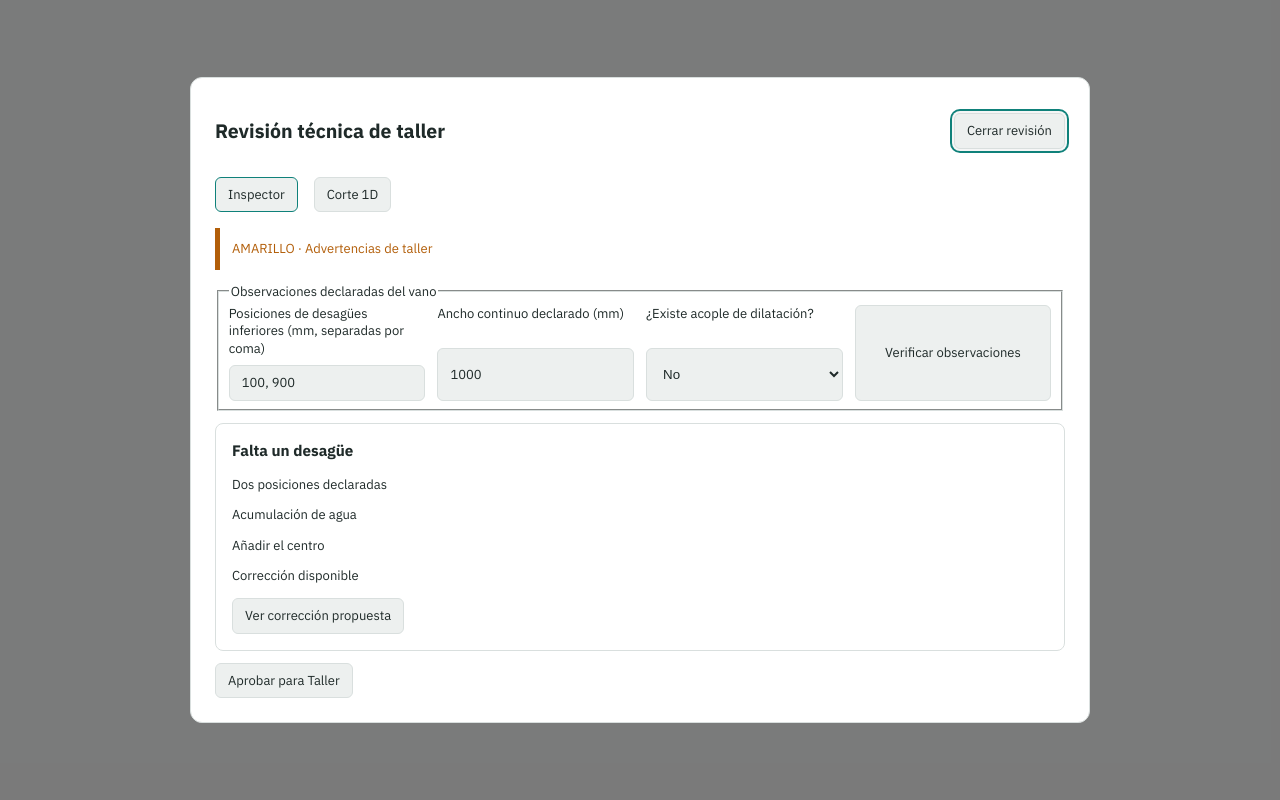
Test case: SHOT-07 transactional modal › rolls back every local field on calculate failure
Click the button "Ver corrección propuesta" at (318, 616), box [232,598,404,634]
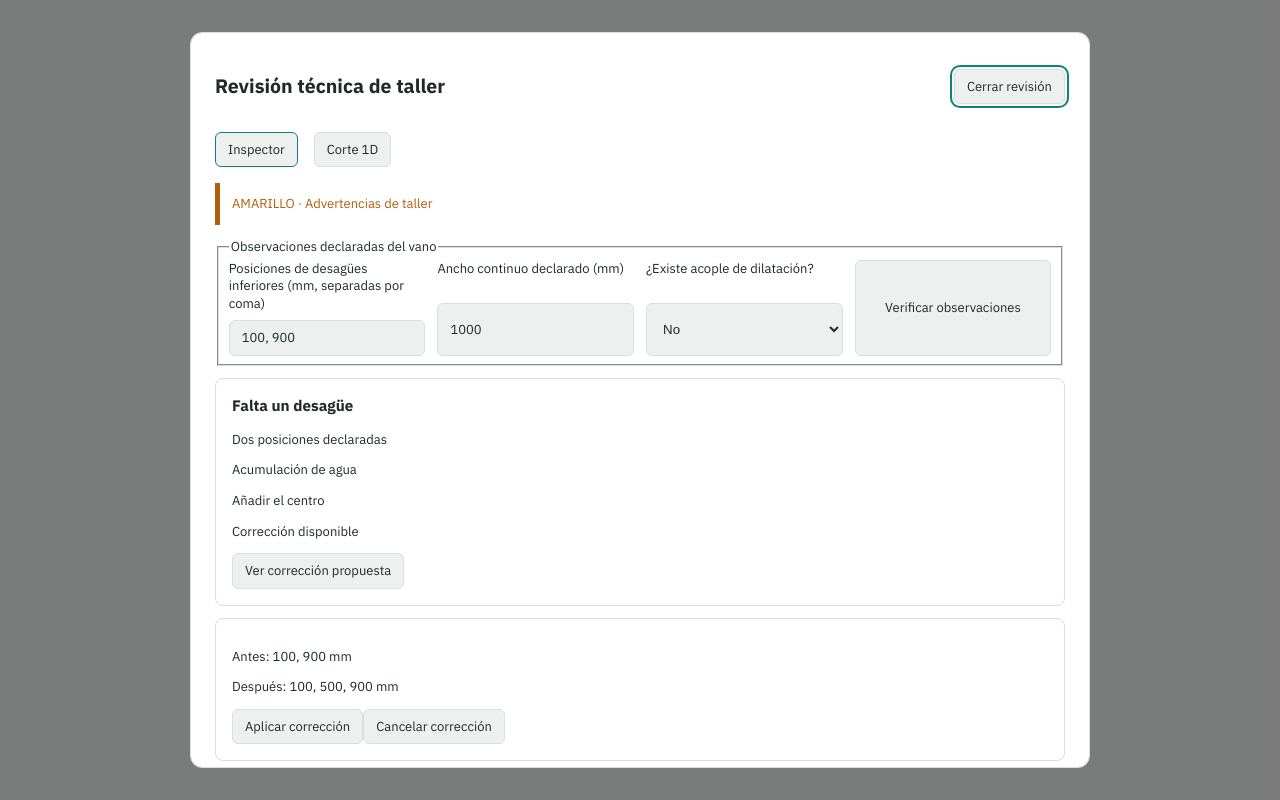
Expected: the text "Antes: 100, 900 mm" is shown, [232,648,352,665]
Expected: the text "Después: 100, 500, 900 mm" is shown, [232,678,399,695]
Click the button "Aplicar corrección" at (298, 726), box [232,709,363,744]
(page scrolled)
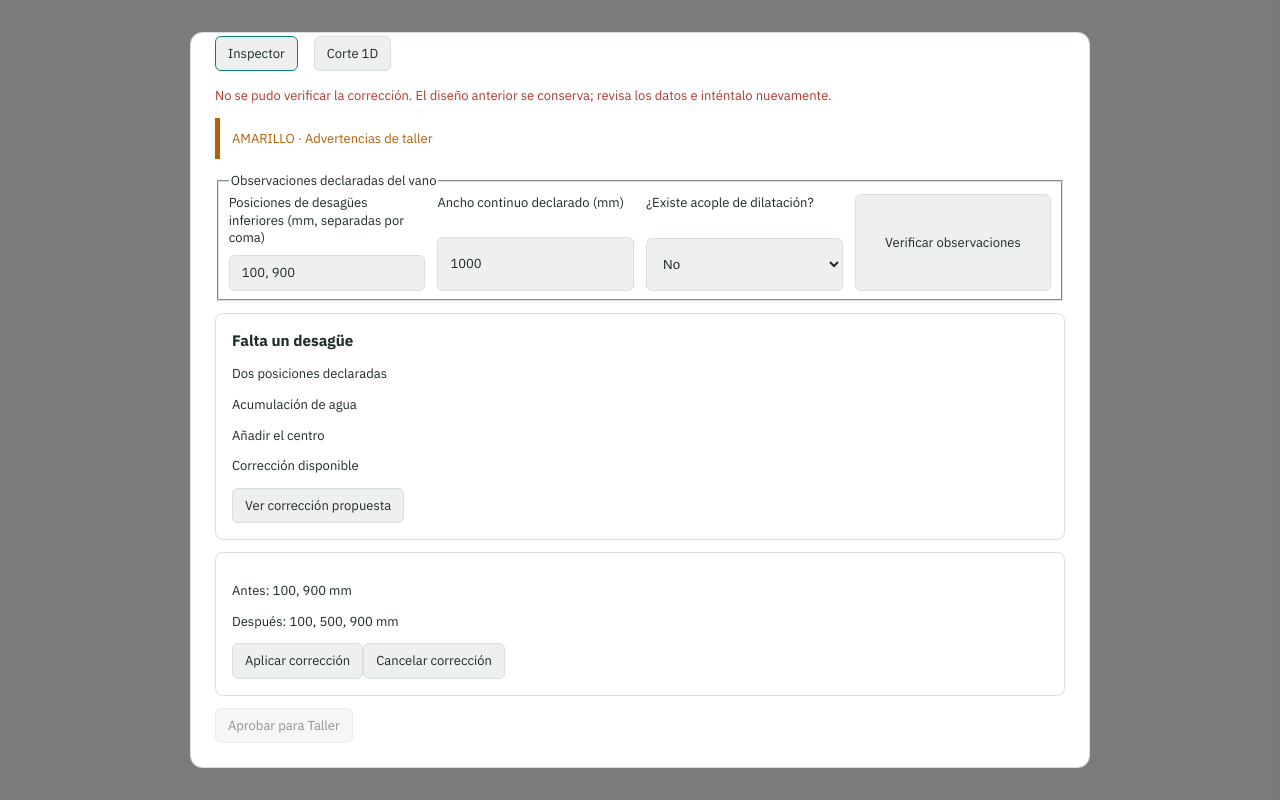
Expected: the 1st message shows "El diseño anterior se conserva", [215,87,832,104]
Expected: the button "Aprobar para Taller" is disabled, [215,708,353,743]
